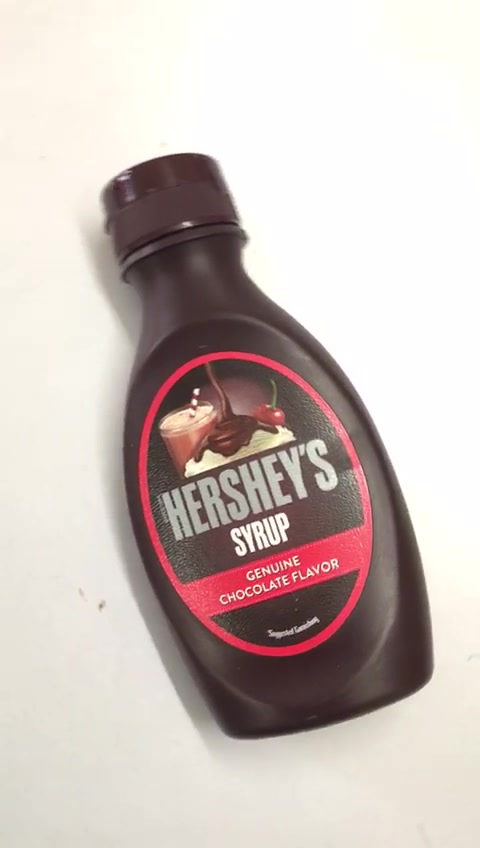hershey: (86, 154, 436, 742)
